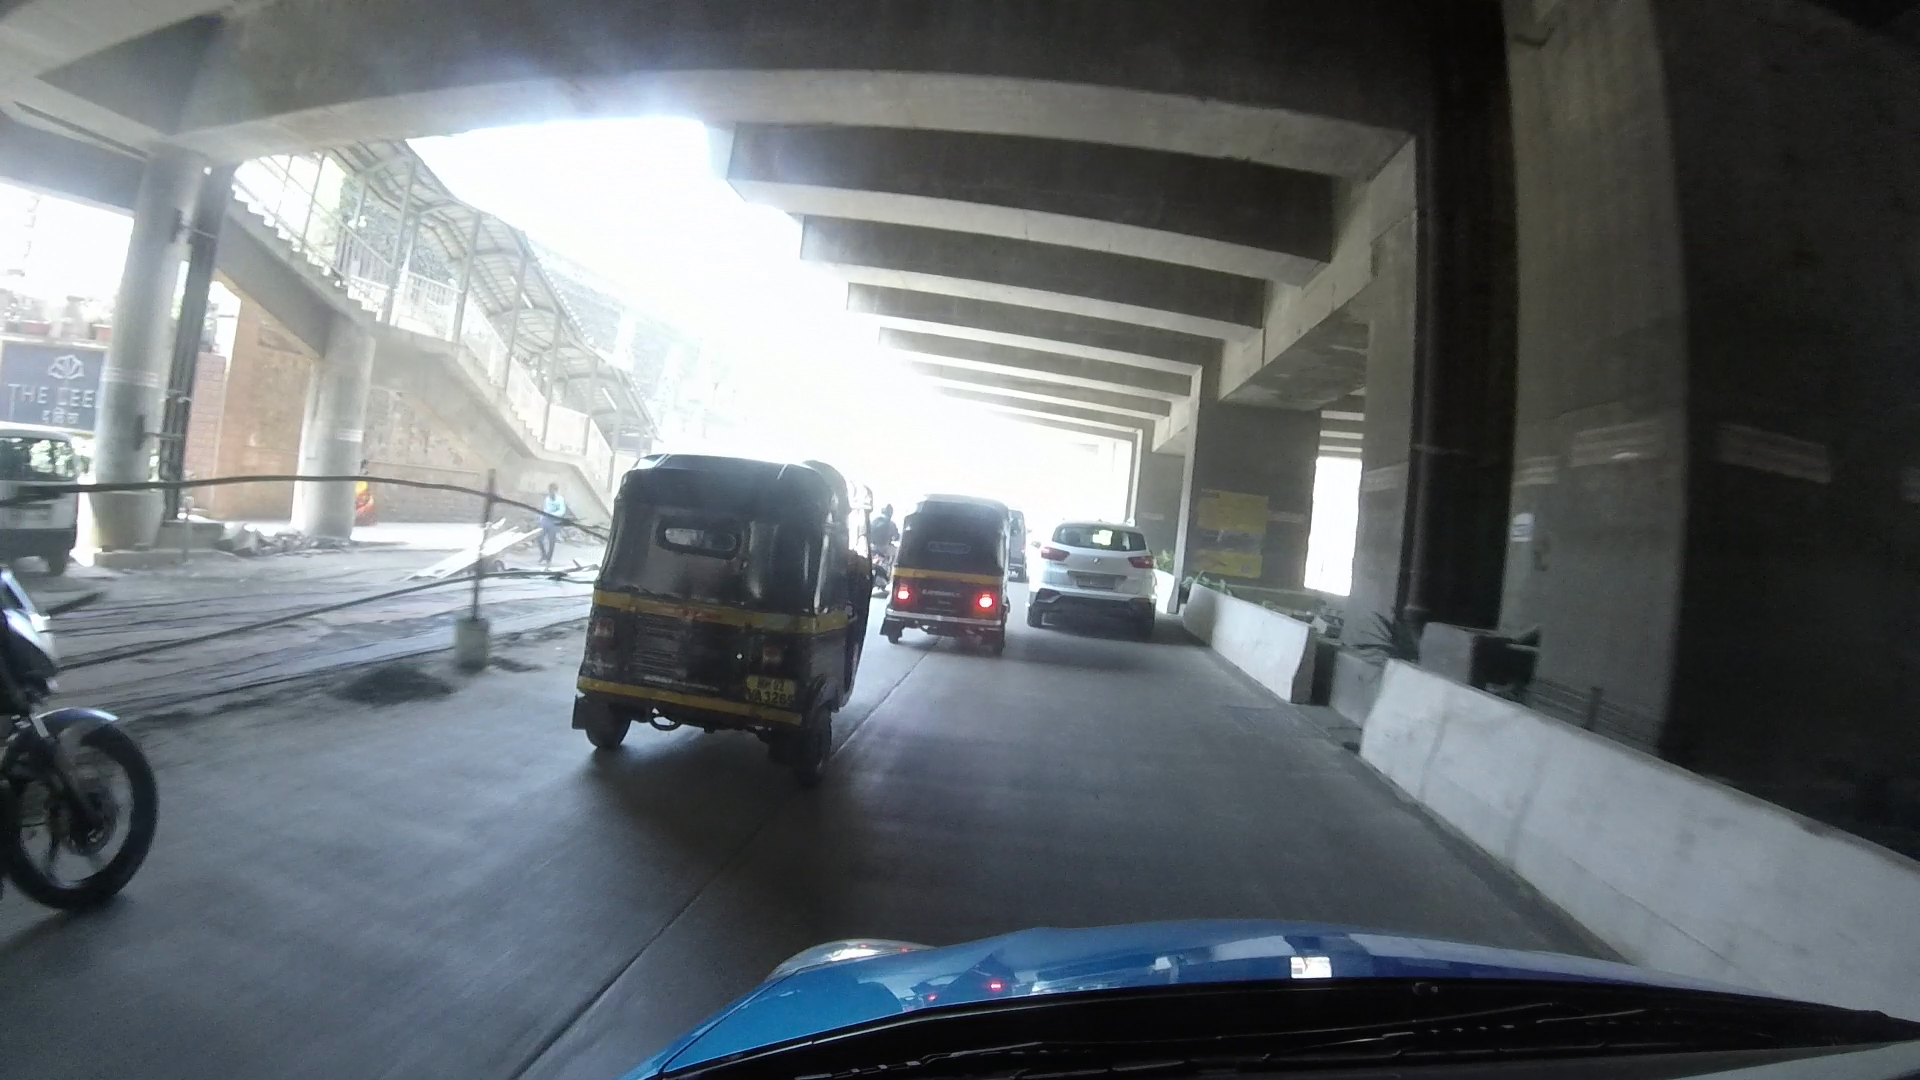bike/scooter: (18, 583, 152, 919)
car: (1029, 513, 1166, 622)
rickshaw: (568, 442, 849, 757), (890, 498, 1013, 654)
